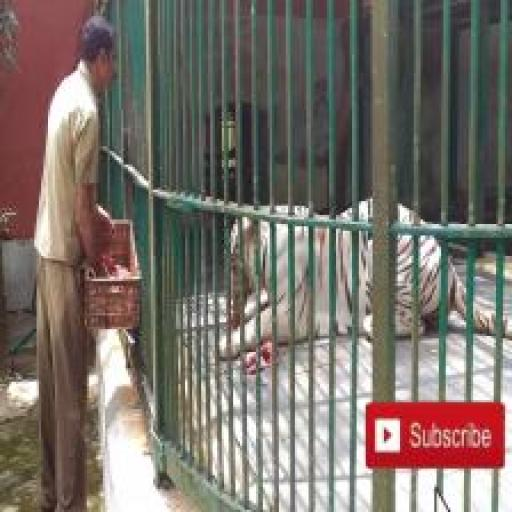Tiger: (215, 194, 511, 361)
